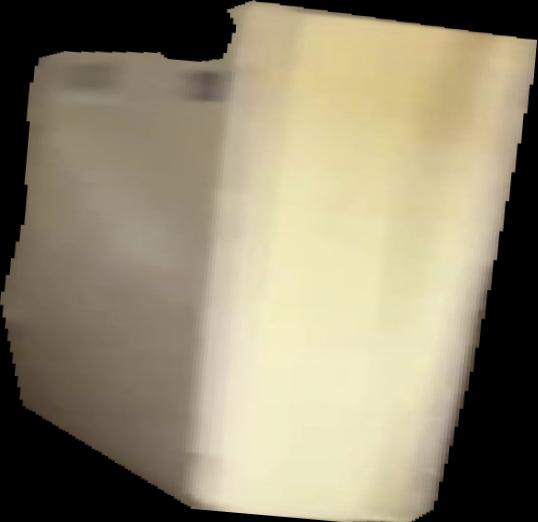backward: (1, 1, 538, 522)
